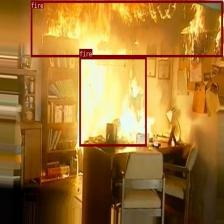fire: (31, 0, 222, 57), (79, 57, 146, 146)
